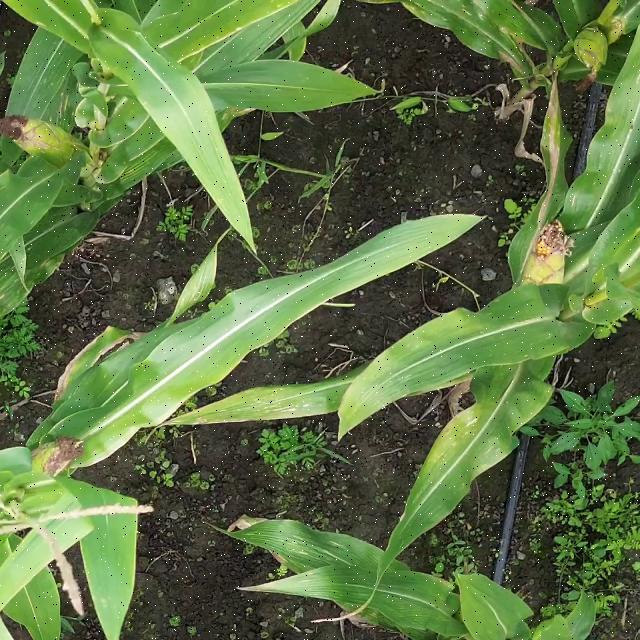gray-leaf-spot: (242, 522, 448, 628)
northern-leaf-blight: (523, 88, 576, 240), (55, 322, 139, 404), (47, 89, 92, 149)
southern-leaf-blight: (401, 384, 541, 526), (415, 0, 571, 80), (191, 372, 341, 454), (421, 303, 577, 372), (0, 216, 72, 312), (203, 5, 286, 64)
